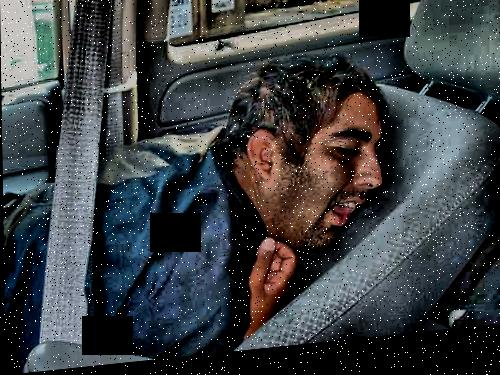seatbelt: (25, 0, 141, 324)
